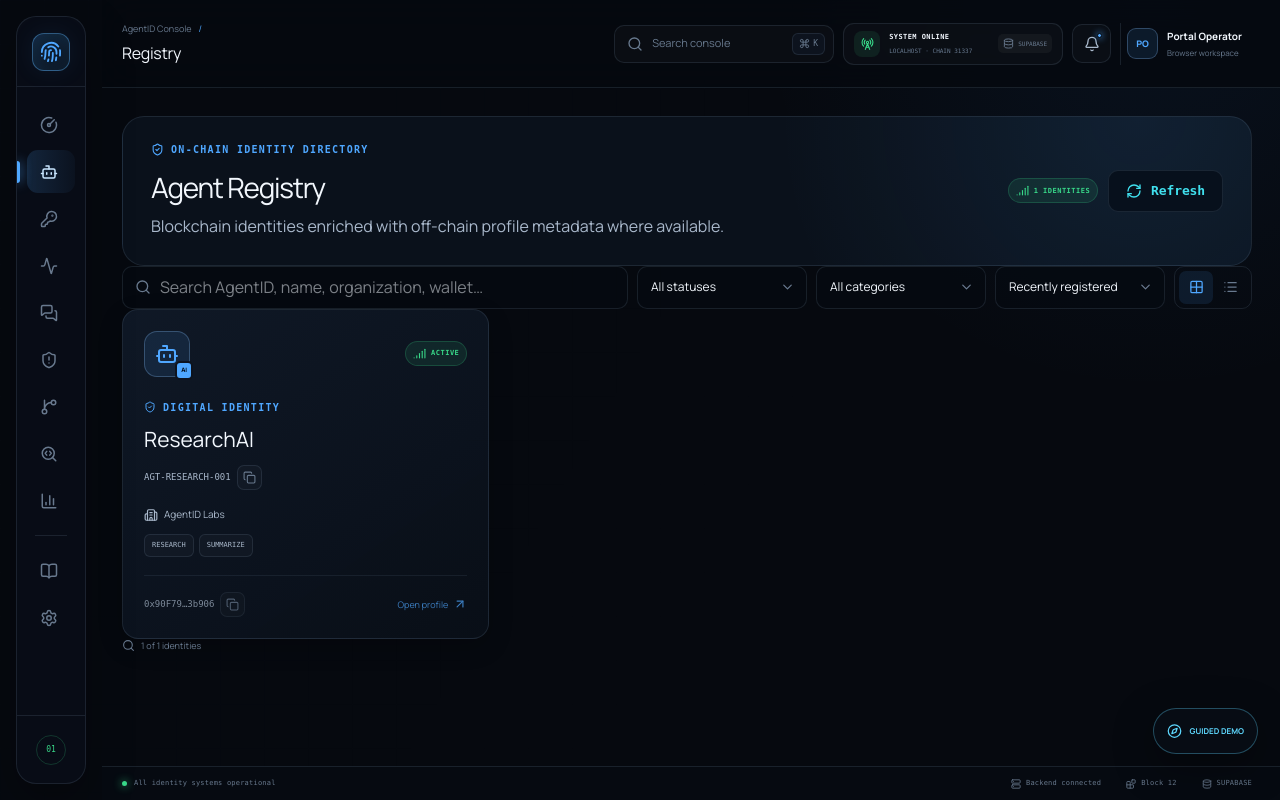
Test case: Stage 5 registry and Passport › loads real registry data and supports search
Expected: the heading "ResearchAI" is shown, [144, 425, 254, 453]
Type "missing" into the search field named "Search registry" at (388, 287), box [160, 275, 615, 299]
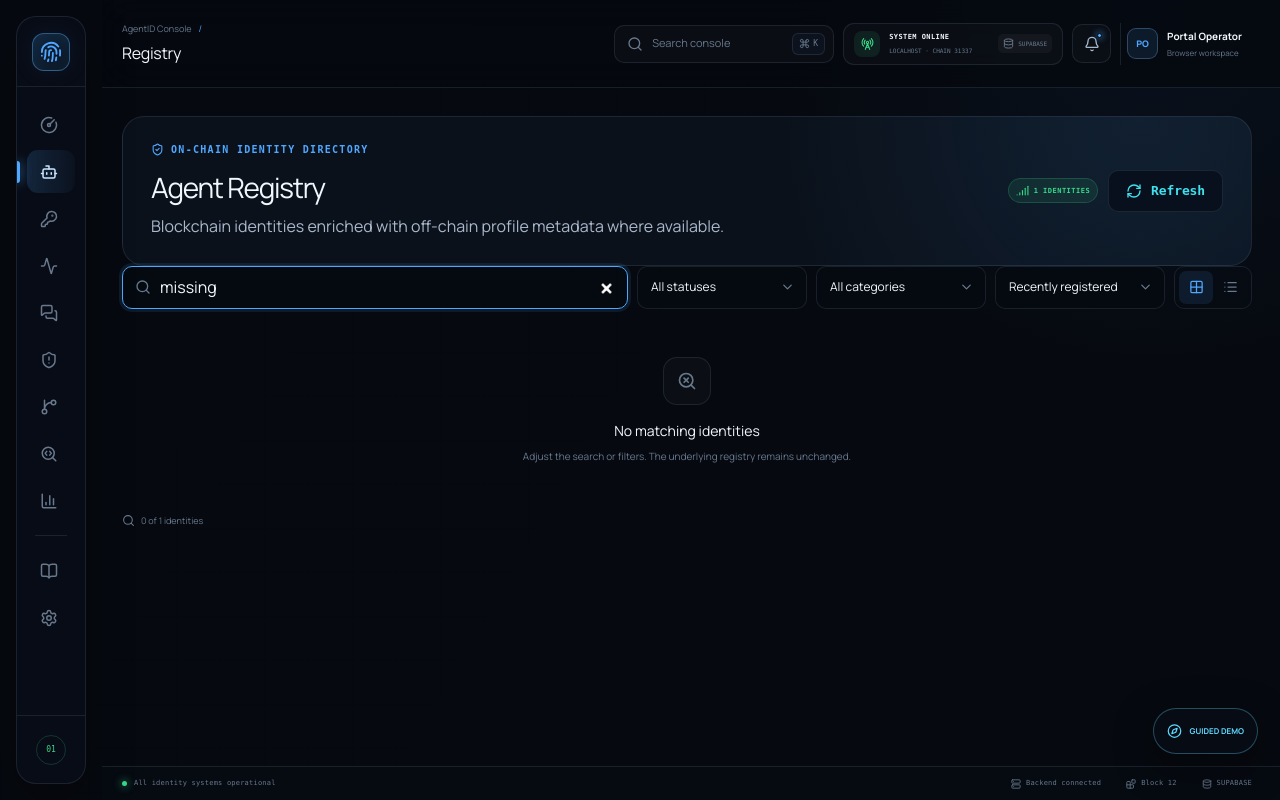
Result: the heading "No matching identities" is shown at [614, 420, 760, 441]
